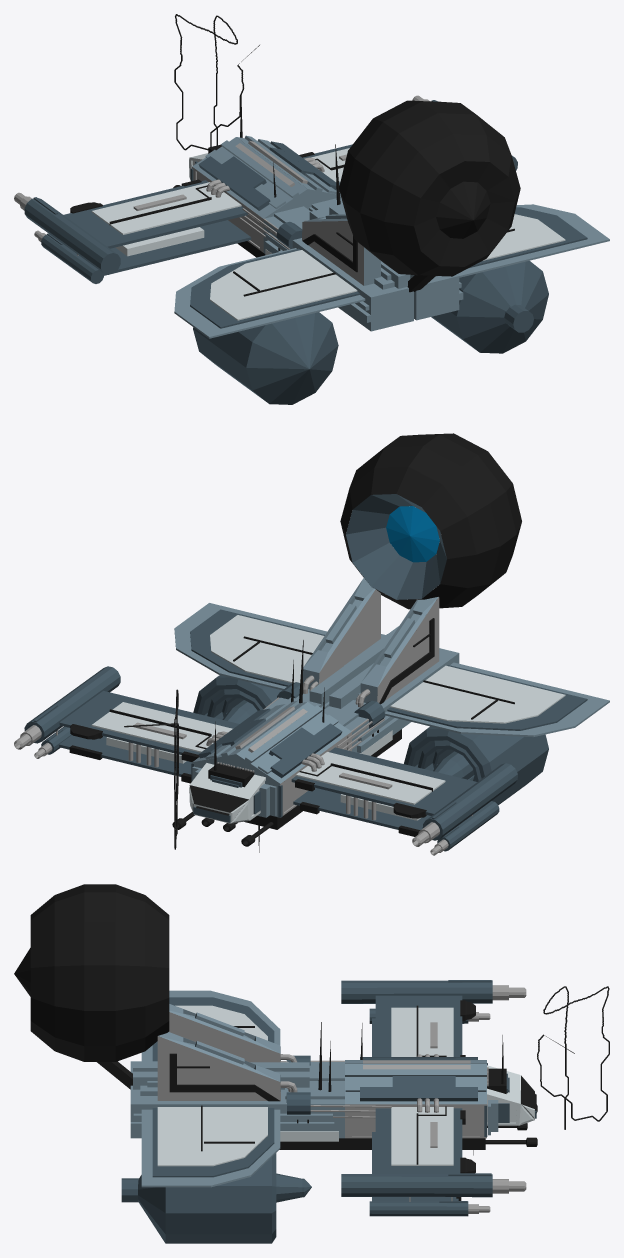
Rendered from SpaceShip.glb.
3 views of the same model, one above another, from view 1: azimuth 30°, elevation 25°; view 2: azimuth 150°, elevation 25°; view 3: azimuth 270°, elevation 25° (orthographic).
Parts seen in each view (by area): view 1: Node; view 2: Node; view 3: Node.
Part boxes in pixels (left/top/right/bottom): Node: left=14, top=14, right=609, bottom=404; Node: left=14, top=433, right=609, bottom=855; Node: left=14, top=884, right=609, bottom=1243.
Size of the model in its own units: 3.21 by 2.17 by 3.98.
